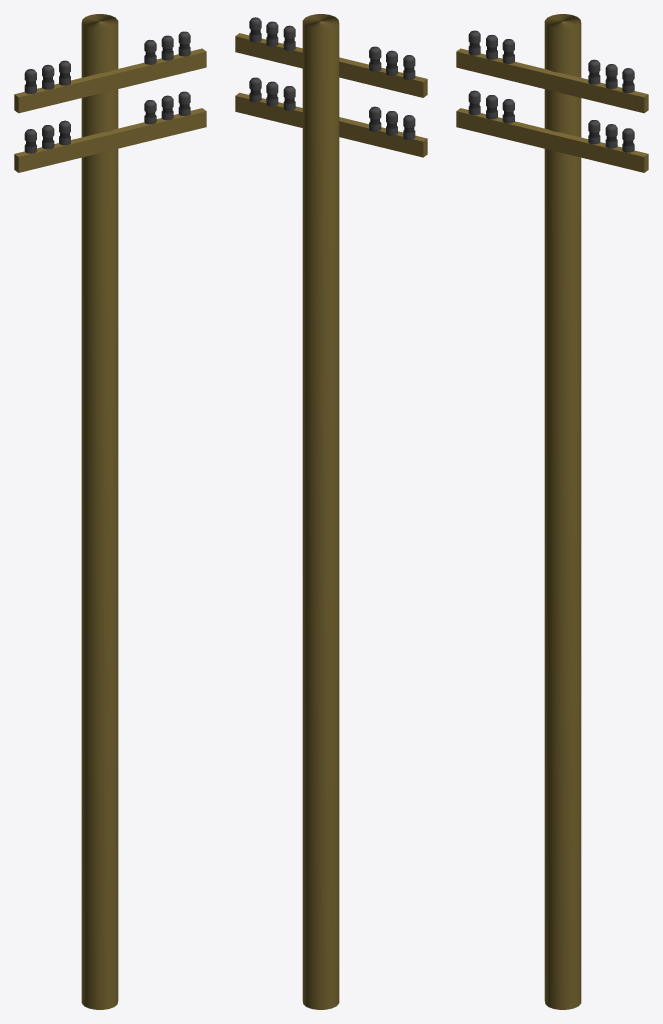
Rendered from telegraph pole.glb.
The picture shows the model from 3 angles, left to right: view 1: azimuth 30°, elevation 25°; view 2: azimuth 150°, elevation 25°; view 3: azimuth 330°, elevation 25°; orthographic projection.
Parts seen in each view (by area): view 1: telegraph pole; view 2: telegraph pole; view 3: telegraph pole.
Part boxes in pixels (x1,y1,x2,y2): telegraph pole: (14,14,206,1009); telegraph pole: (235,14,427,1009); telegraph pole: (456,14,648,1009).
Size of the model in its own units: 1 by 4.98 by 0.2013.
Materials: 1 (1 with a texture image).
